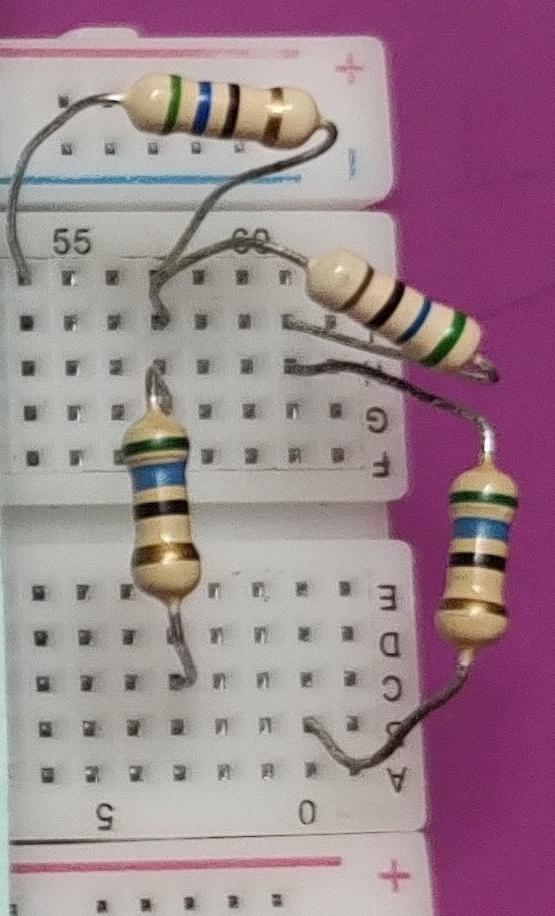resistor: (289, 237, 482, 375), (113, 59, 335, 161), (427, 445, 526, 657), (115, 405, 210, 614)
